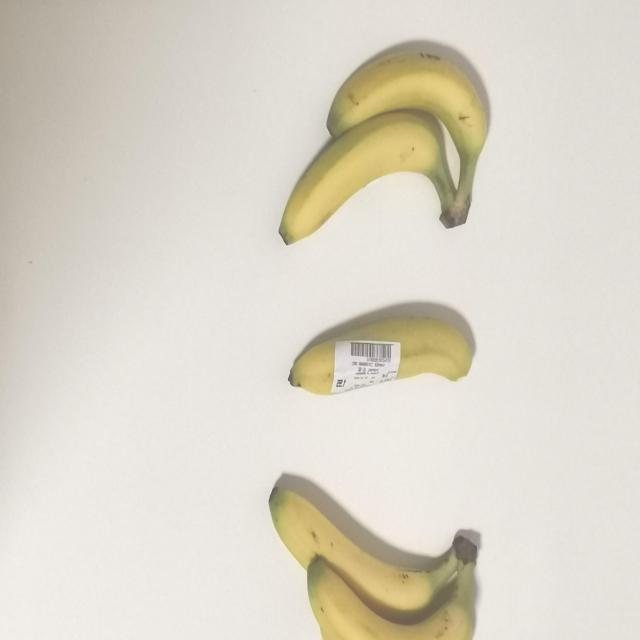Banana: (265, 32, 508, 255), (270, 480, 482, 640), (284, 286, 476, 407)
